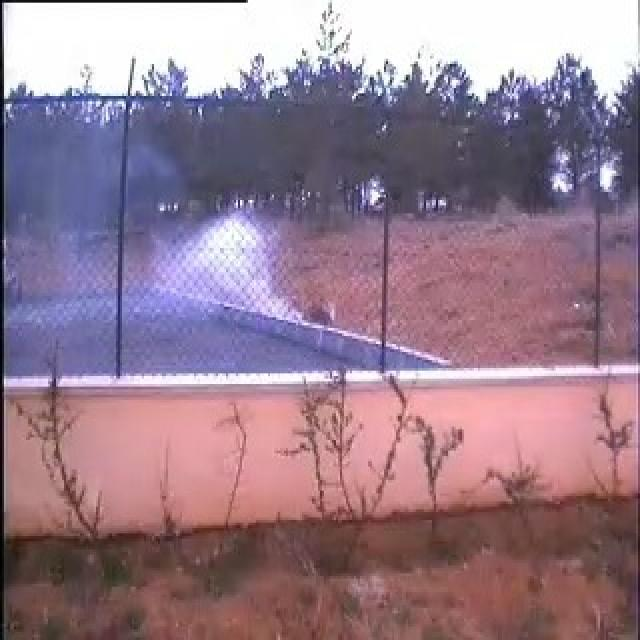smoke: (132, 200, 308, 372)
